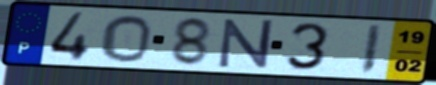3: (282, 21, 335, 73)
4: (47, 10, 92, 63)
8: (169, 16, 215, 68)
I: (357, 23, 384, 76)
N: (217, 18, 275, 70)
O: (100, 13, 154, 64)
